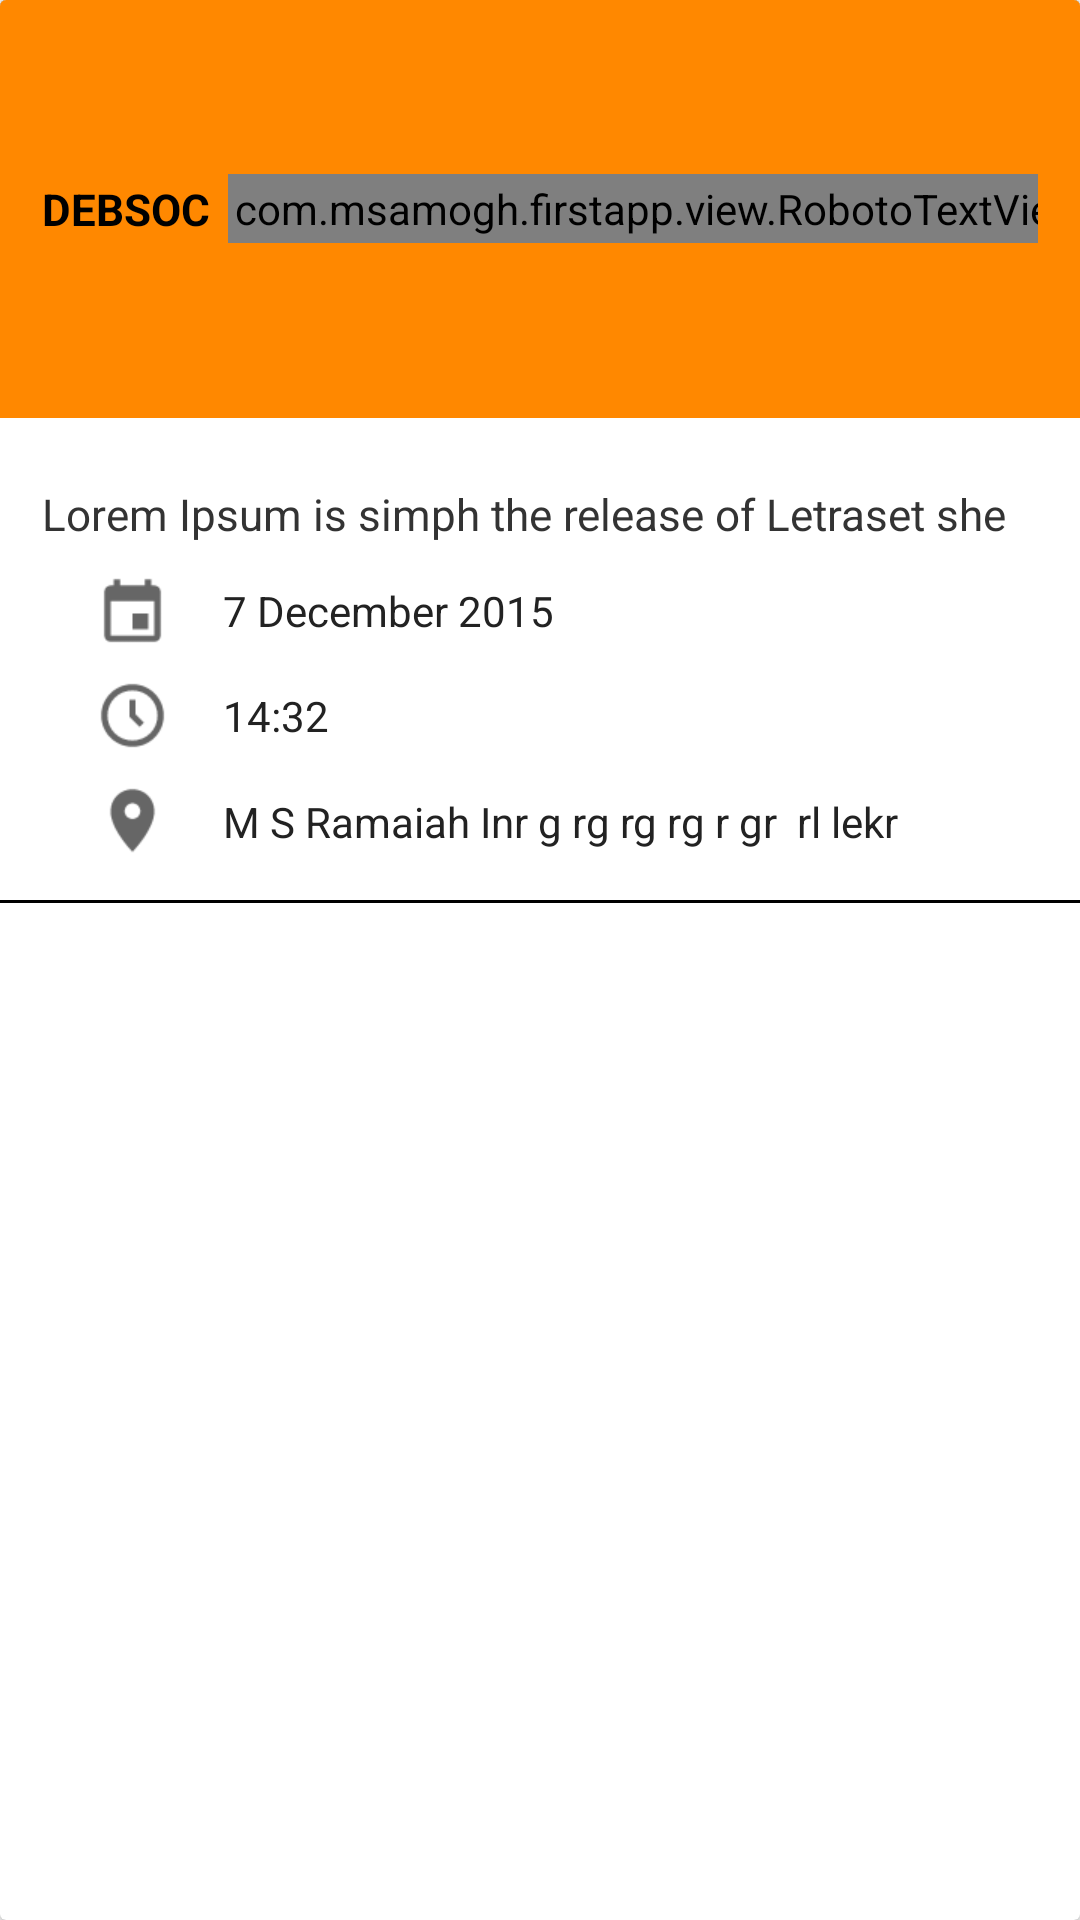

Icons on this 1080px x 1920px Android screen, each with the point to tap as [x,y]:
calendar: [132,610]
clock: [132,715]
marker: [132,820]
